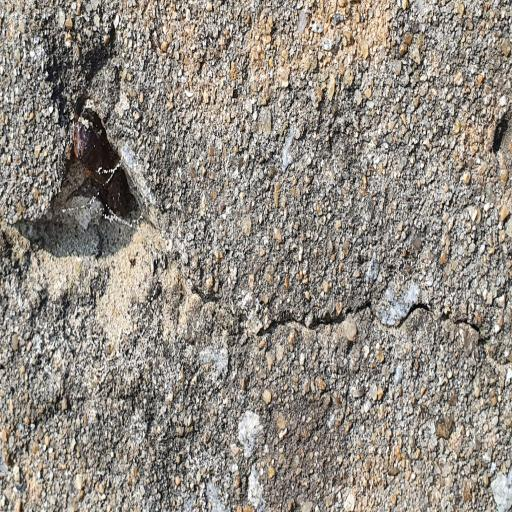exposed_rebar: (74, 108, 135, 217)
